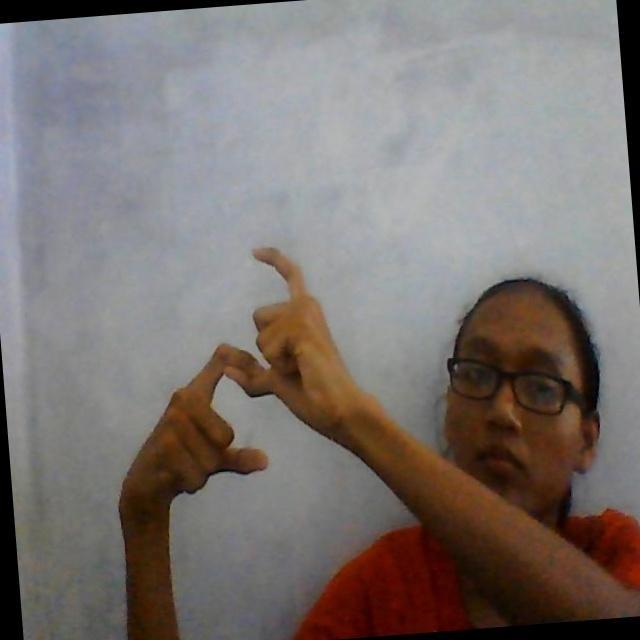S: (174, 236, 336, 479)
